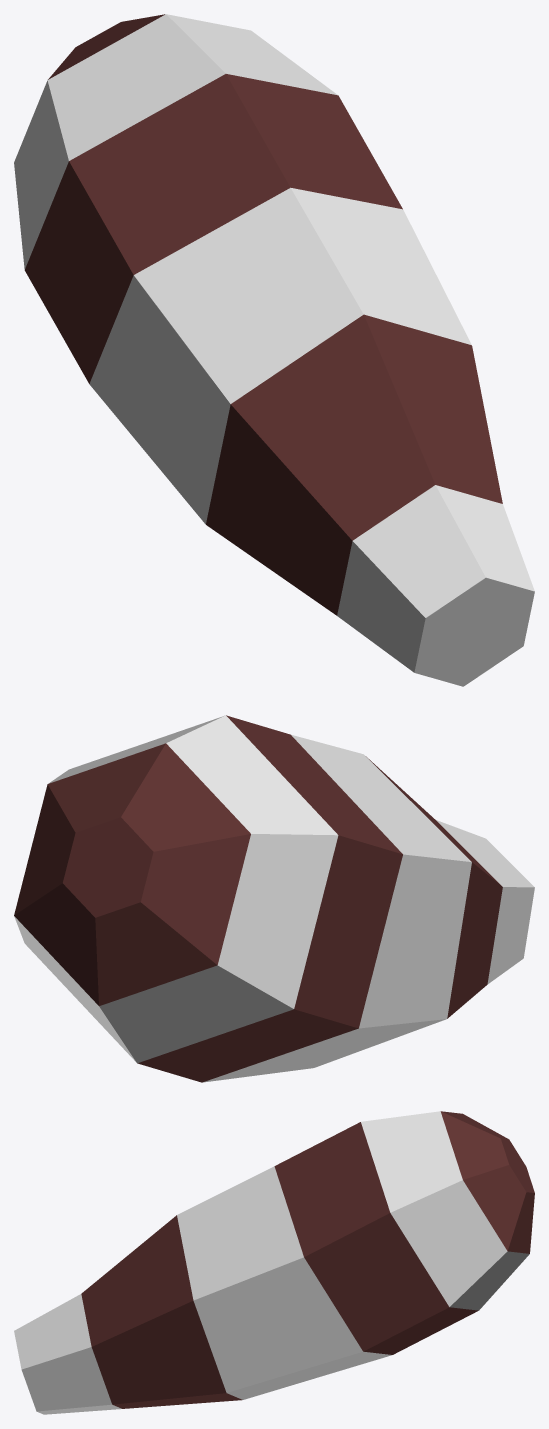
File: raccoonTail.glb
The picture shows the model from 3 angles, top to bottom: view 1: azimuth 30°, elevation 25°; view 2: azimuth 150°, elevation 25°; view 3: azimuth 270°, elevation 25°; orthographic projection. The views are drawn at different scales.
Parts seen in each view (by area): view 1: Cylinder; view 2: Cylinder; view 3: Cylinder.
Part boxes in pixels (<box>): Cylinder: <box>14,14,534,686</box>; Cylinder: <box>14,715,534,1082</box>; Cylinder: <box>14,1111,534,1414</box>.
Size of the model in its own units: 1.93 by 3.12 by 4.86.
